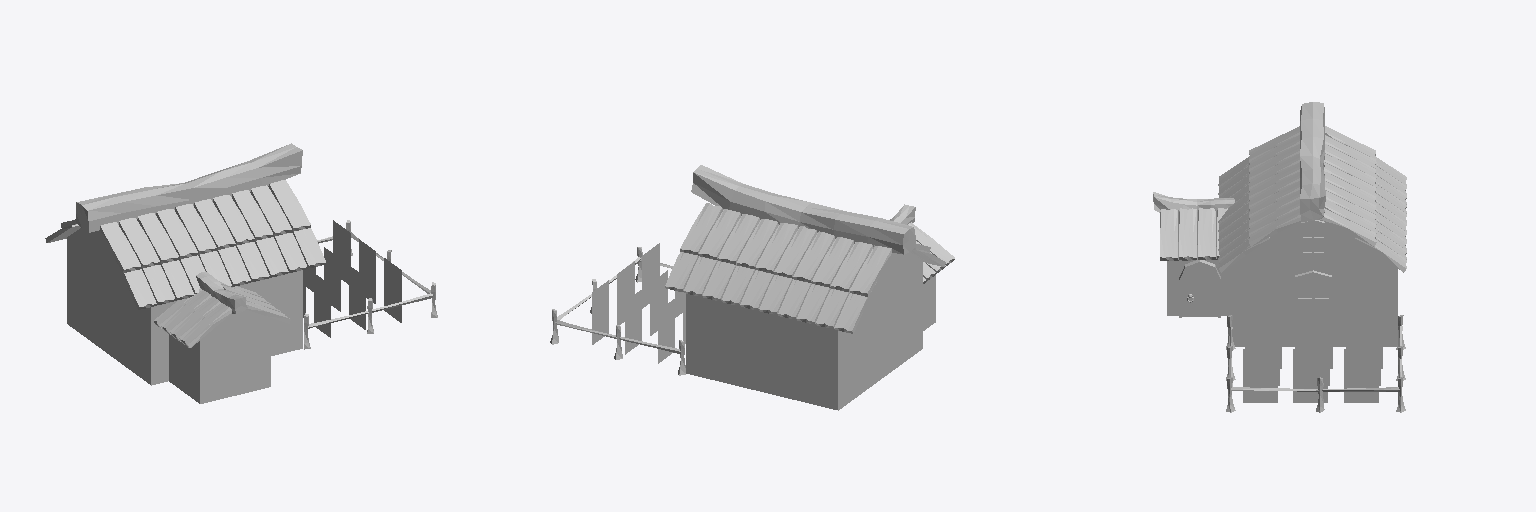
The model's file is FarmHouse.obj.
3 renders of one model, left to right at view 1: azimuth 30°, elevation 25°; view 2: azimuth 150°, elevation 25°; view 3: azimuth 270°, elevation 25°, orthographic.
Visible parts, largest first — view 1: Graveyard_Table_Top.002; view 2: Graveyard_Table_Top.002; view 3: Graveyard_Table_Top.002.
Boxes of the visible parts, box(x1,y1,x2,y2) form: Graveyard_Table_Top.002: box(45, 143, 437, 403); Graveyard_Table_Top.002: box(550, 165, 954, 410); Graveyard_Table_Top.002: box(1153, 102, 1406, 412).
Bounding box in the file's own units: 8.73 × 4.47 × 6.06.